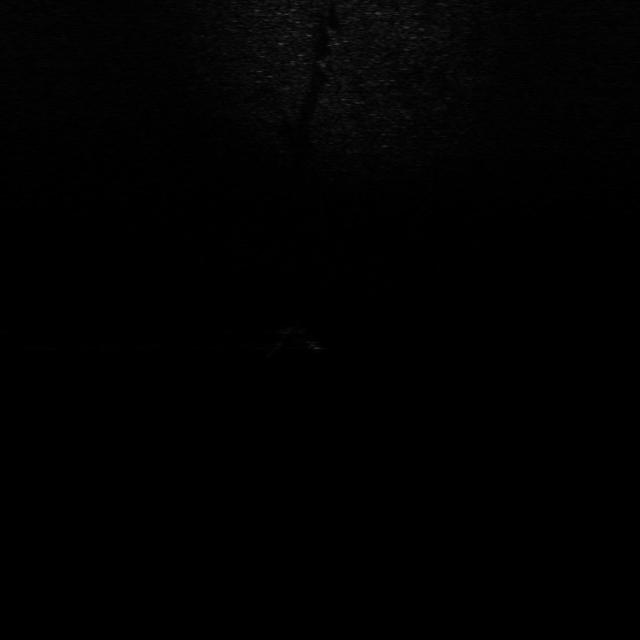human body: (263, 316, 342, 364)
